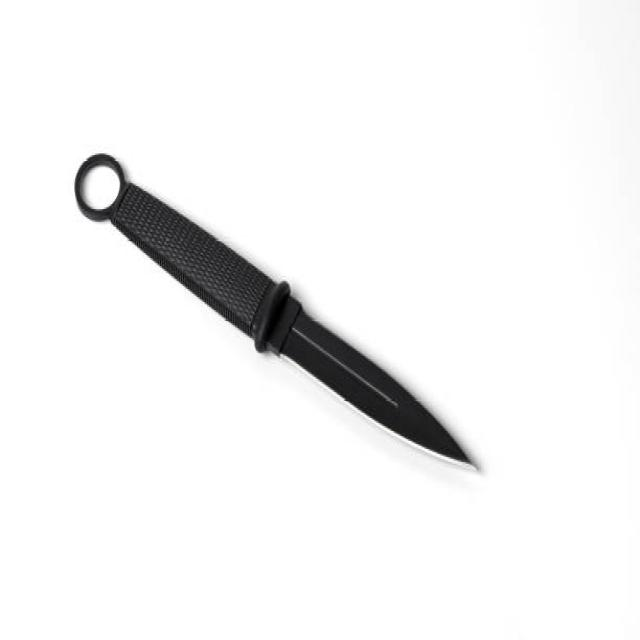knife: (69, 155, 490, 486)
